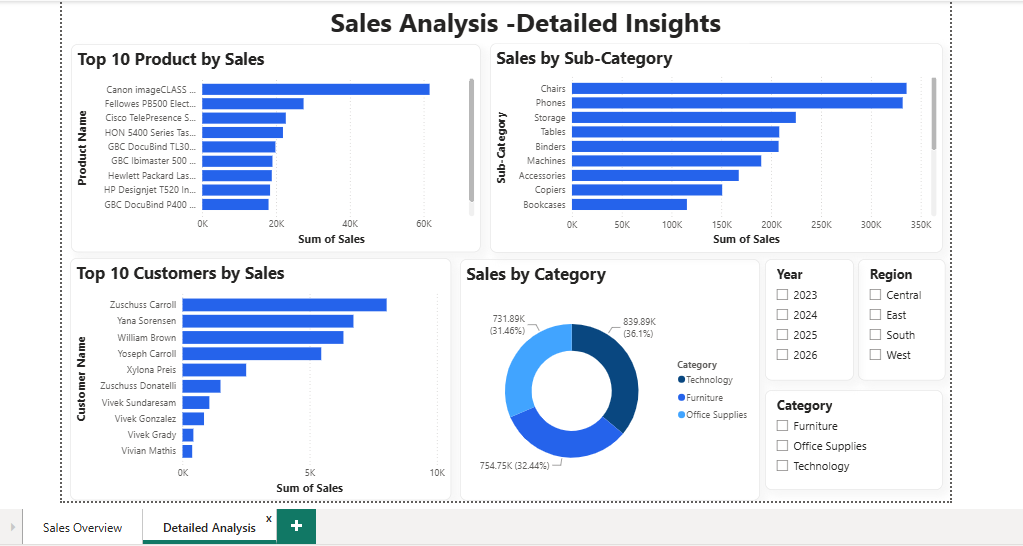

The dashboard page shown, as its layout file describes it:
{"tool":"powerbi","page":{"name":"Detailed Analysis","canvas":[1280,720],"ordinal":1},"visuals":[{"type":"clusteredBarChart","title":"Top 10 Product by Sales ","fields":{"Category":["sales_analysis orders.Product Name"],"Y":["Sum(sales_analysis orders.Sales)"]},"box":[13.1,62.3,590,299.9],"z":0},{"type":"clusteredBarChart","title":"Top 10 Customers by Sales","fields":{"Category":["sales_analysis orders.Customer Name"],"Y":["Sum(sales_analysis orders.Sales)"]},"box":[11.8,369.6,549.3,349.4],"z":1000},{"type":"donutChart","title":"Sales by Category","fields":{"Category":["sales_analysis orders.Category"],"Y":["Sum(sales_analysis orders.Sales)"]},"box":[572.8,371.2,431.7,347.7],"z":2000},{"type":"clusteredBarChart","title":"Sales by Sub-Category","fields":{"Category":["sales_analysis orders.Sub-Category"],"Y":["Sum(sales_analysis orders.Sales)"]},"box":[616.2,60.6,652.3,301.6],"z":3000},{"type":"slicer","fields":{"Values":["sales_analysis orders.Region"]},"box":[1145.6,371.2,126,174.7],"z":4000},{"type":"slicer","fields":{"Values":["sales_analysis orders.Category"]},"box":[1012.9,560.5,255.7,144.2],"z":5000},{"type":"slicer","fields":{"Values":["sales_analysis orders.Order Date.Variation.Date Hierarchy.Year"]},"box":[1012.9,371.2,127.7,174.7],"z":6000},{"type":"textbox","box":[345.8,0,644.1,60.6],"z":7000}]}

Visuals, with their boxes on the page's 1280x720 design canvas (x1, y1, x2, y2). These are canvas units, not pixel positions in the 1023x546 screenshot, which may show the page scaled, cropped or inside an application window:
"Top 10 Product by Sales " clusteredBarChart: detection(13, 62, 603, 362)
"Top 10 Customers by Sales" clusteredBarChart: detection(12, 370, 561, 719)
"Sales by Category" donutChart: detection(573, 371, 1004, 719)
"Sales by Sub-Category" clusteredBarChart: detection(616, 61, 1268, 362)
slicer - sales_analysis orders.Region: detection(1146, 371, 1272, 546)
slicer - sales_analysis orders.Category: detection(1013, 560, 1269, 705)
slicer - sales_analysis orders.Order Date.Variation.Date Hierarchy.Year: detection(1013, 371, 1141, 546)
textbox: detection(346, 0, 990, 61)
